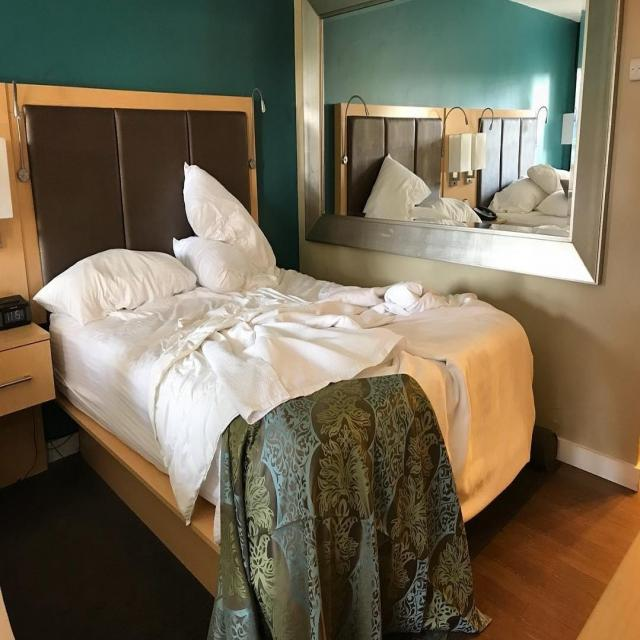bed: (25, 164, 537, 640)
